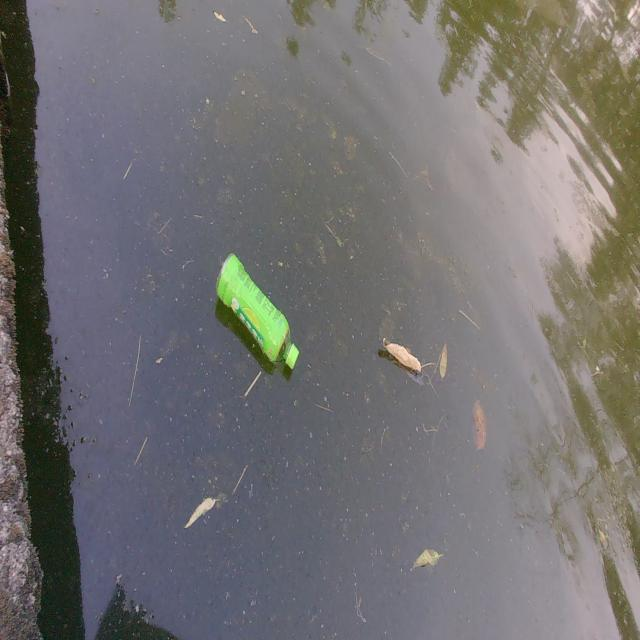Bottle: (212, 247, 302, 375)
